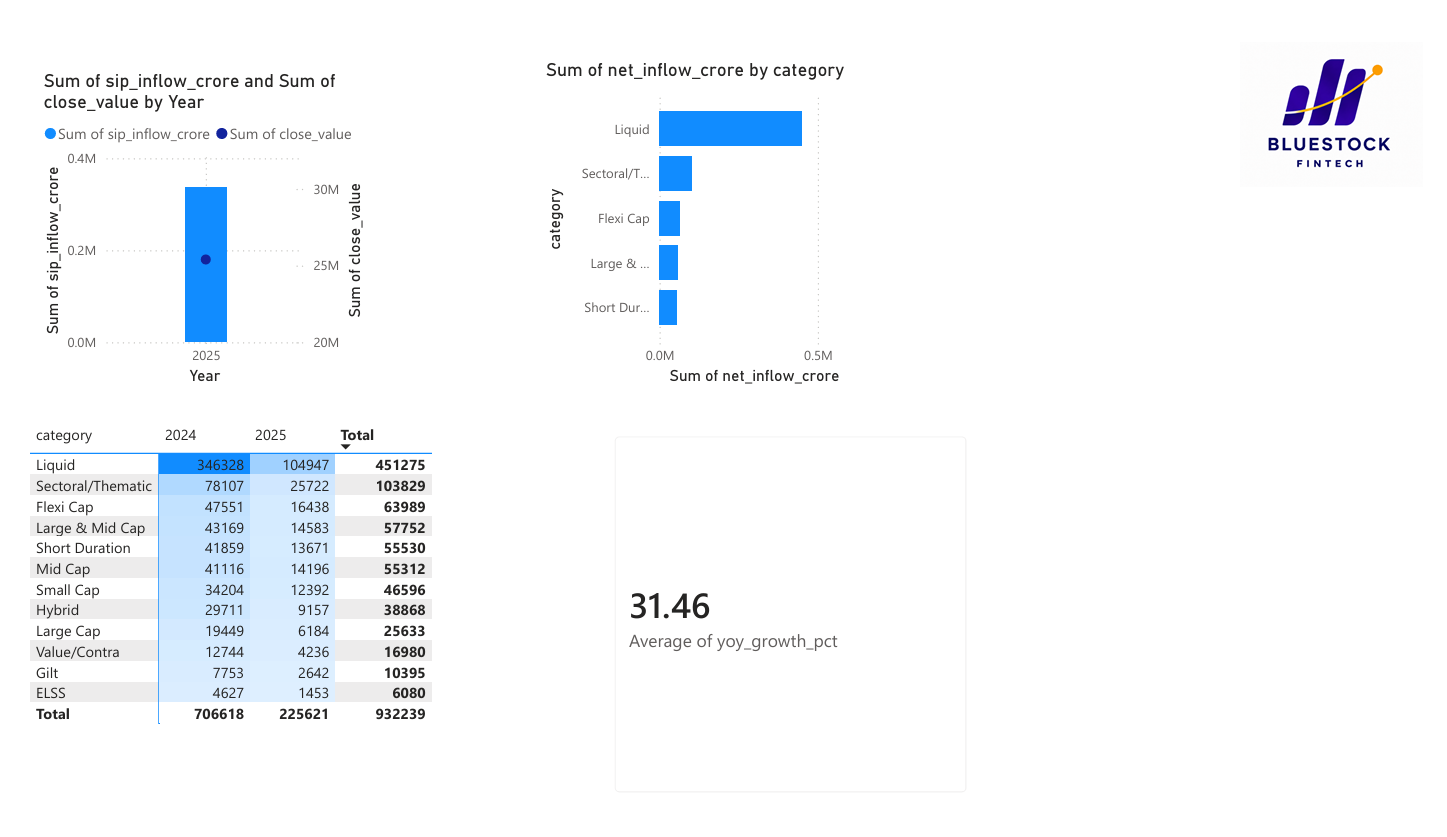

The dashboard page shown, as its layout file describes it:
{"tool":"powerbi","page":{"name":"Page 4","canvas":[1280,720],"ordinal":3},"visuals":[{"type":"lineClusteredColumnComboChart","fields":{"Category":["04_monthly_sip_inflows.month.Variation.Date Hierarchy.Year","04_monthly_sip_inflows.month.Variation.Date Hierarchy.Quarter","04_monthly_sip_inflows.month.Variation.Date Hierarchy.Month","04_monthly_sip_inflows.month.Variation.Date Hierarchy.Day"],"Y":["Sum(04_monthly_sip_inflows.sip_inflow_crore)"],"Y2":["Sum(10_benchmark_indices.close_value)"]},"box":[12.2,41.1,302.2,293.3],"z":0},{"type":"pivotTable","fields":{"Rows":["05_category_inflows.category"],"Columns":["05_category_inflows.month.Variation.Date Hierarchy.Year","05_category_inflows.month.Variation.Date Hierarchy.Quarter","05_category_inflows.month.Variation.Date Hierarchy.Month","05_category_inflows.month.Variation.Date Hierarchy.Day"],"Values":["Sum(05_category_inflows.net_inflow_crore)"]},"box":[0,360,523.3,318.9],"z":1000},{"type":"clusteredBarChart","fields":{"Category":["05_category_inflows.category"],"Y":["Sum(05_category_inflows.net_inflow_crore)"]},"box":[472.2,31.1,302.2,303.3],"z":1001},{"type":"cardVisual","fields":{"Data":["Avg(04_monthly_sip_inflows.yoy_growth_pct)"]},"box":[523.3,360,356.7,360],"z":1002},{"type":"image","box":[1113.3,0,166.7,164.4],"z":1003}]}

Visuals, with their boxes in screenshot pixels (x1, y1, x2, y2), scaled from the page's 1280x720 canvas onto the 1447x837 screenshot:
lineClusteredColumnComboChart - 04_monthly_sip_inflows.month.Variation.Date Hierarchy.Year x 04_monthly_sip_inflows.month.Variation.Date Hierarchy.Quarter: <region>14, 48, 355, 389</region>
pivotTable - 05_category_inflows.category x 05_category_inflows.month.Variation.Date Hierarchy.Year: <region>0, 419, 592, 789</region>
clusteredBarChart - 05_category_inflows.category x Sum(05_category_inflows.net_inflow_crore): <region>534, 36, 875, 389</region>
cardVisual - Avg(04_monthly_sip_inflows.yoy_growth_pct): <region>592, 419, 995, 836</region>
image: <region>1259, 0, 1446, 191</region>
